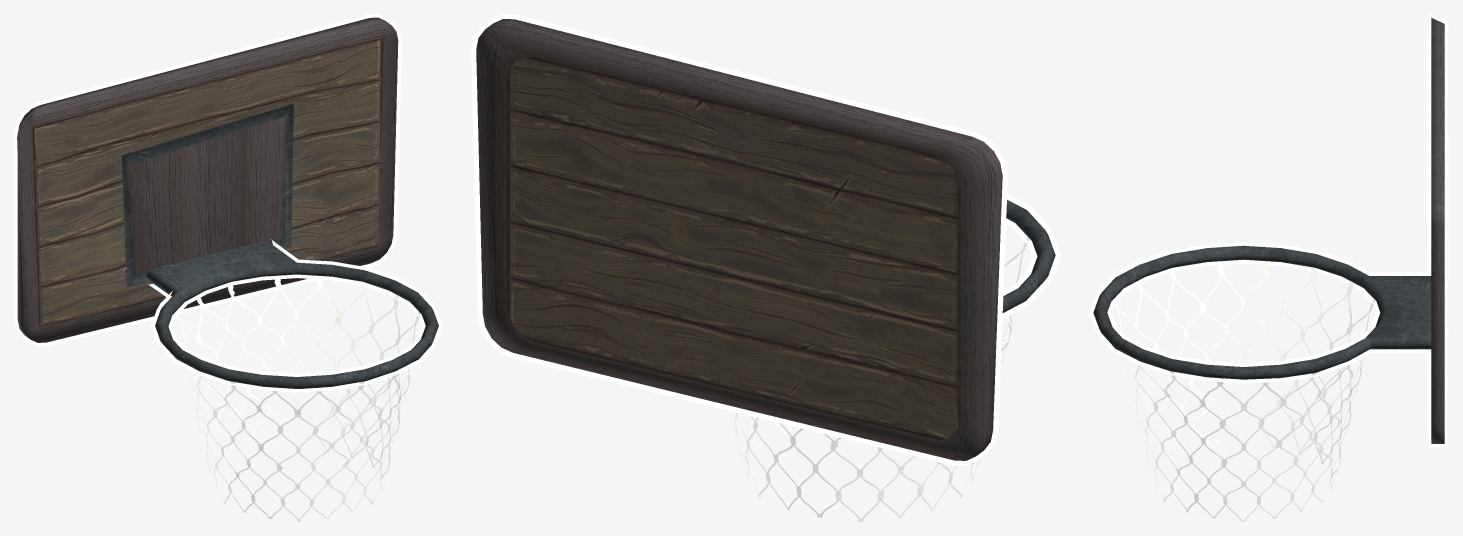
Rendered from basketball_hoop.glb.
The picture shows the model from 3 angles, left to right: view 1: azimuth 30°, elevation 25°; view 2: azimuth 150°, elevation 25°; view 3: azimuth 270°, elevation 25°; orthographic projection. The views are drawn at different scales.
Parts seen in each view (by area): view 1: basketball_hoop, basketball_hoop_outline; view 2: basketball_hoop, basketball_hoop_outline; view 3: basketball_hoop, basketball_hoop_outline.
Boxes of the visible parts, x1,y1,x2,y2 form: basketball_hoop: (17,17,438,521); basketball_hoop_outline: (14,14,442,392); basketball_hoop: (476,19,1055,521); basketball_hoop_outline: (471,14,1060,465); basketball_hoop: (1093,17,1444,521); basketball_hoop_outline: (1089,14,1448,446).
Size of what is drawn, in the model's own units: 3.45 by 3.08 by 2.63.
5 materials, 4 textured.
